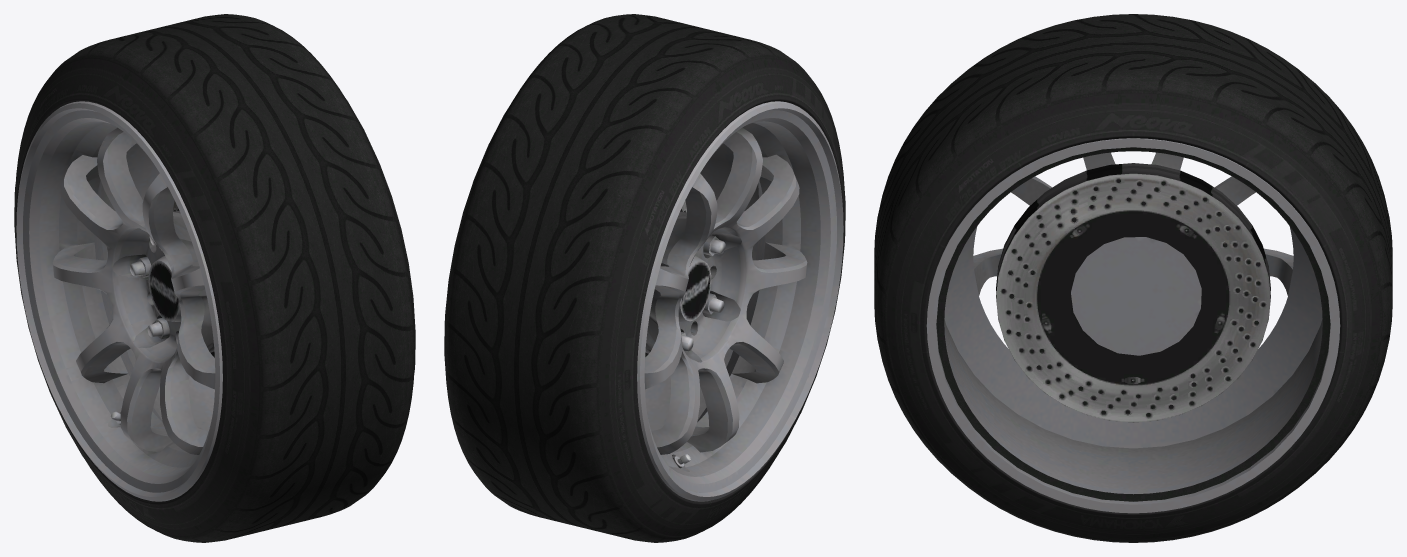
File: saipa_pride_wheel.glb
The picture shows the model from 3 angles, left to right: view 1: azimuth 30°, elevation 25°; view 2: azimuth 150°, elevation 25°; view 3: azimuth 270°, elevation 25°; orthographic projection.
Parts seen in each view (by area): view 1: SportPrideWheelMesh; view 2: SportPrideWheelMesh; view 3: SportPrideWheelMesh.
Boxes of the visible parts, x1,y1,x2,y2 form: SportPrideWheelMesh: (14,14,415,542); SportPrideWheelMesh: (444,14,845,542); SportPrideWheelMesh: (874,14,1392,542).
Size of the model in its own units: 0.2666 by 0.6063 by 0.6063.
5 materials, 5 textured.
